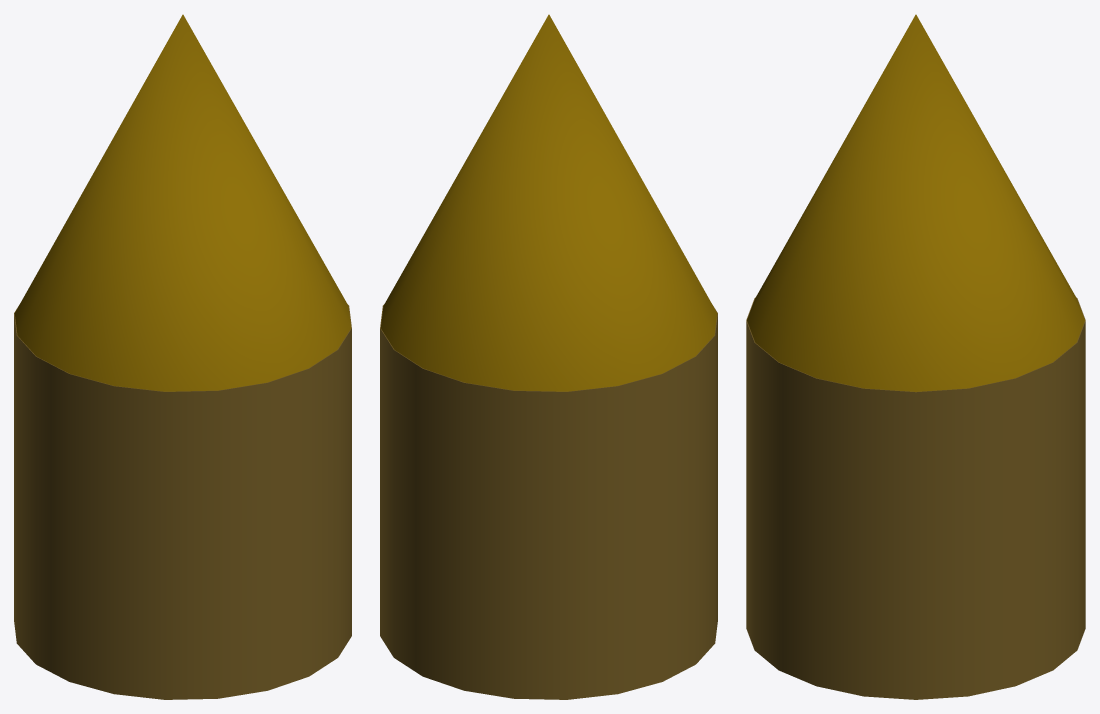
3 renders of one model, left to right at view 1: azimuth 30°, elevation 25°; view 2: azimuth 150°, elevation 25°; view 3: azimuth 270°, elevation 25°, orthographic.
Parts seen in each view (by area): view 1: pCylinder1, pCone1; view 2: pCylinder1, pCone1; view 3: pCylinder1, pCone1.
Part boxes in pixels (x1,y1,x2,y2): pCylinder1: (14,305,351,699); pCone1: (14,14,351,391); pCylinder1: (380,305,717,699); pCone1: (380,14,717,391); pCylinder1: (746,297,1085,699); pCone1: (747,14,1084,391).
Bounding box in the file's own units: 2 × 3.99 × 2.
